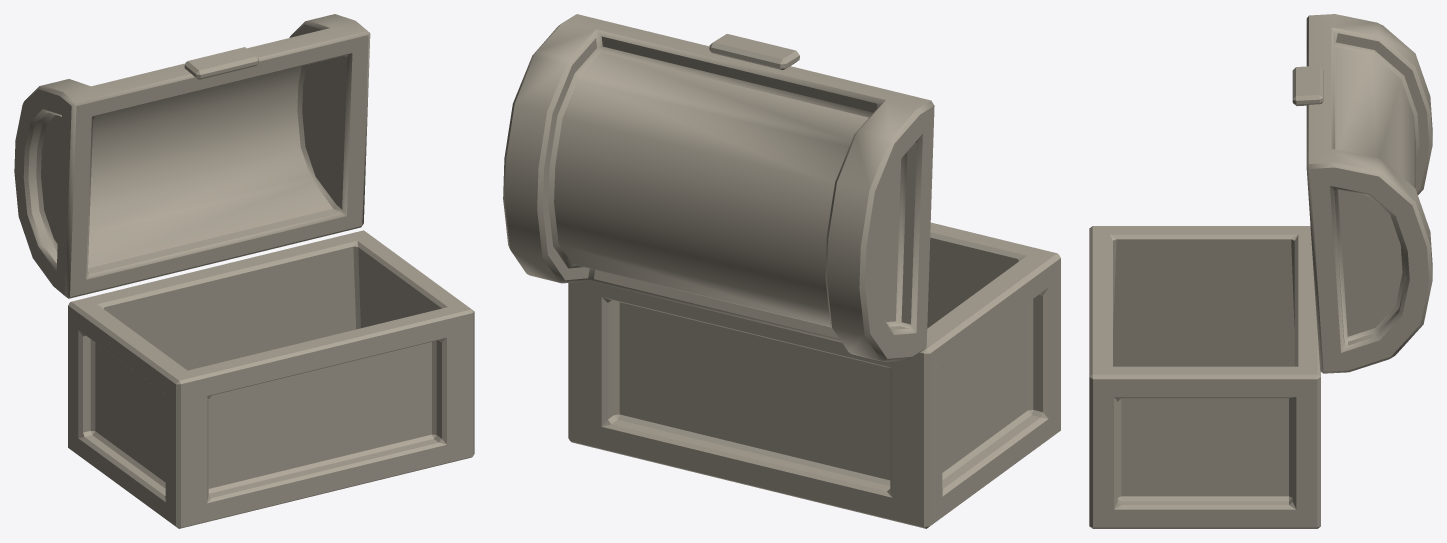
File: crate-compressed.glb
3 renders of one model, left to right at view 1: azimuth 30°, elevation 25°; view 2: azimuth 150°, elevation 25°; view 3: azimuth 270°, elevation 25°, orthographic. The views are drawn at different scales.
Visible parts, largest first — view 1: crate; view 2: crate; view 3: crate.
Part boxes in pixels (left/top/right/bottom): crate: left=14, top=14, right=474, bottom=528; crate: left=503, top=14, right=1060, bottom=528; crate: left=1089, top=14, right=1432, bottom=528.
Bounding box in the file's own units: 0.6955 × 0.8 × 0.6654.
